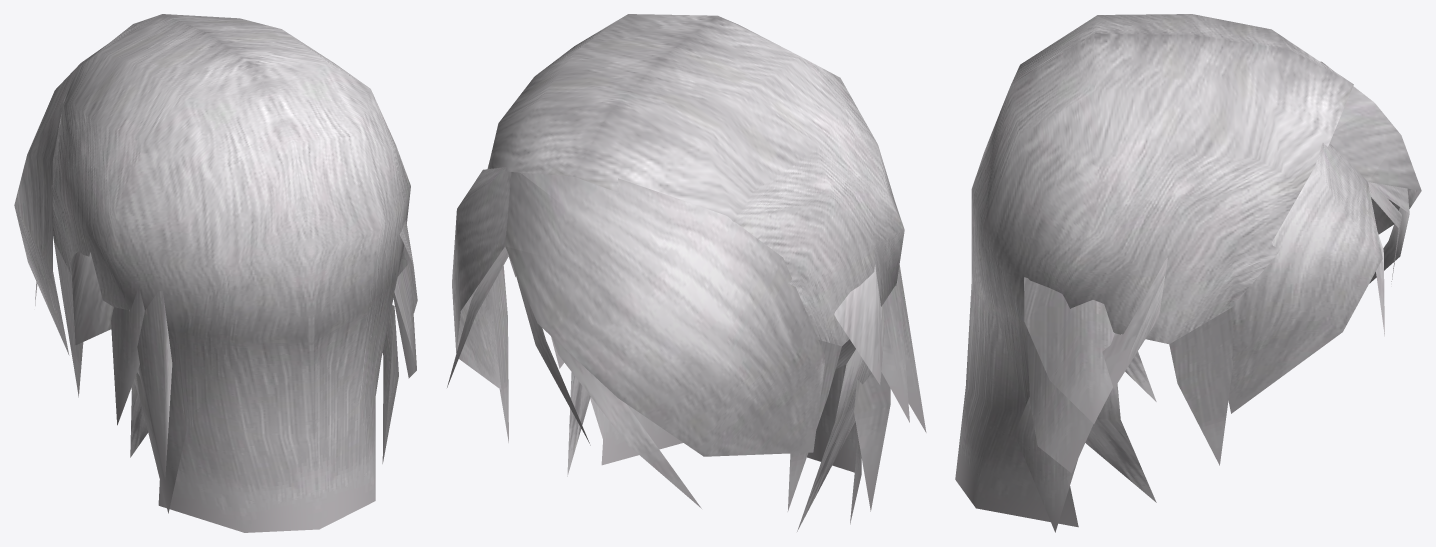
File: Martial arts male hair 07.glb
3 views of the same model, side by side, from view 1: azimuth 30°, elevation 25°; view 2: azimuth 150°, elevation 25°; view 3: azimuth 270°, elevation 25° (orthographic). The views are drawn at different scales.
Visible parts, largest first — view 1: 武侠男头发07_0; view 2: 武侠男头发07_0; view 3: 武侠男头发07_0.
Part boxes in pixels (left/top/right/bottom): 武侠男头发07_0: left=14, top=14, right=417, bottom=532; 武侠男头发07_0: left=447, top=14, right=926, bottom=531; 武侠男头发07_0: left=955, top=14, right=1421, bottom=532.
Bounding box in the file's own units: 0.1931 × 0.2408 × 0.2288.
1 material, 1 textured.
